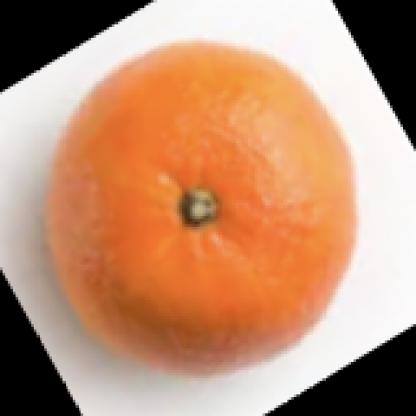orange: (48, 39, 360, 374)
